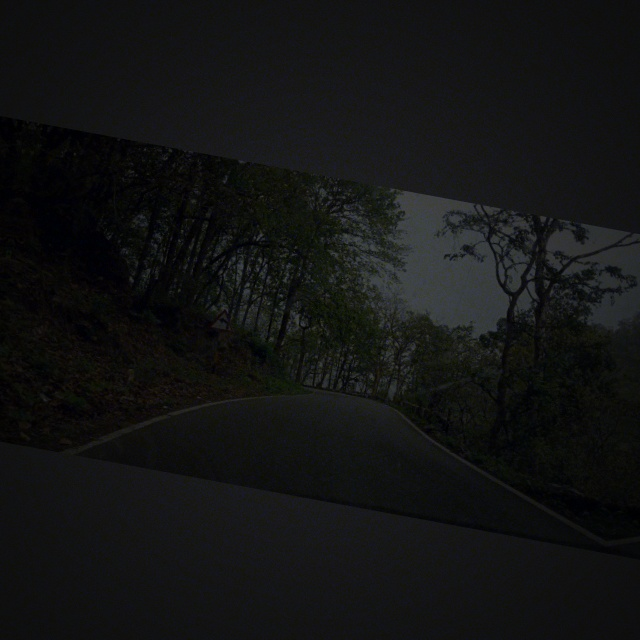Left_Hand_Curve: (207, 303, 237, 339)
